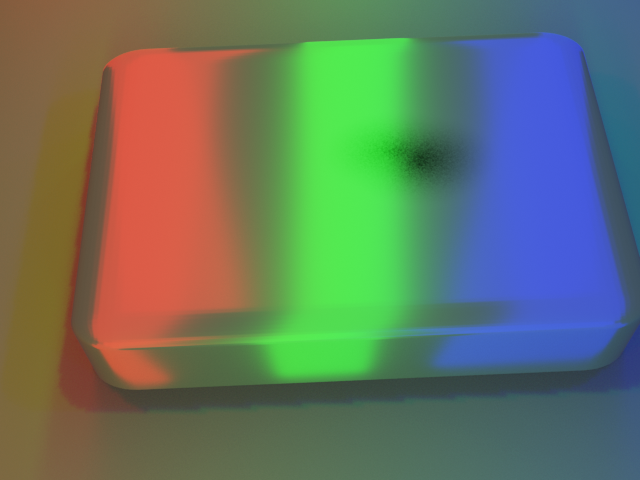stain: (313, 83, 553, 215)
